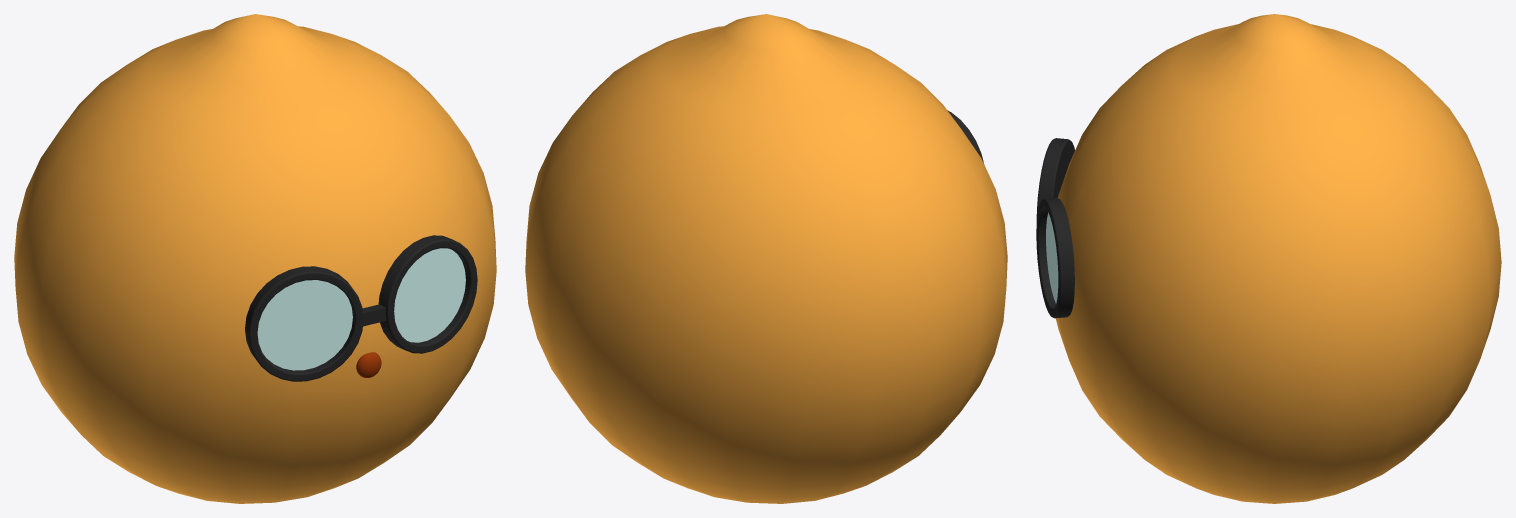
File: chanhh.fbx
3 views of the same model, side by side, from view 1: azimuth 30°, elevation 25°; view 2: azimuth 150°, elevation 25°; view 3: azimuth 270°, elevation 25° (orthographic).
Visible parts, largest first — view 1: chanh; view 2: chanh; view 3: chanh.
Part boxes in pixels (left/top/right/bottom): chanh: left=14, top=14, right=496, bottom=503; chanh: left=525, top=14, right=1007, bottom=503; chanh: left=1036, top=14, right=1501, bottom=503.
Size of the model in its own units: 2.17 by 2.27 by 2.05.
1 material, 1 textured.
